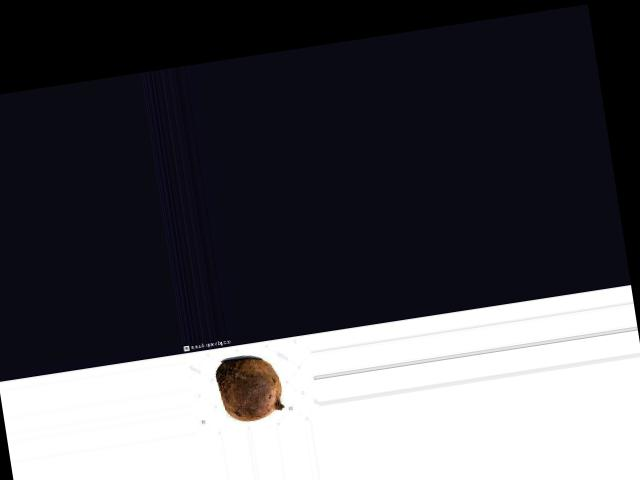beet: (214, 352, 286, 424)
